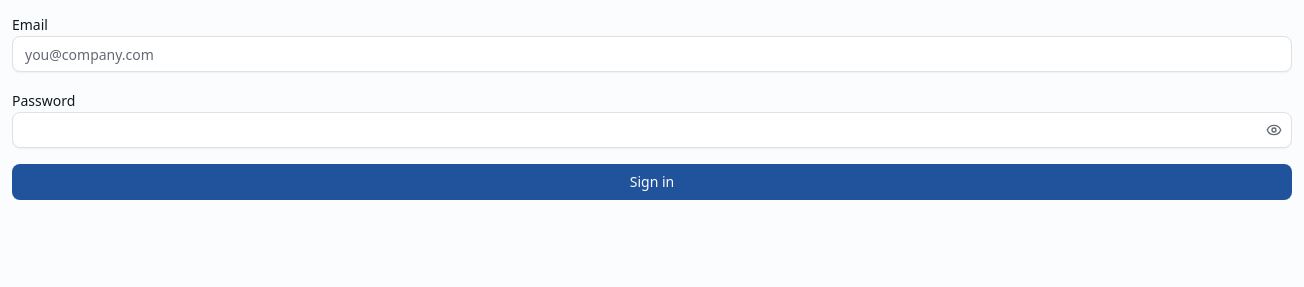
LoginPage form › shows the auth failure the backend actually returns
Type "nobody@example.com" into the field labelled "Email" at (652, 54), box left=12, top=36, right=1292, bottom=72
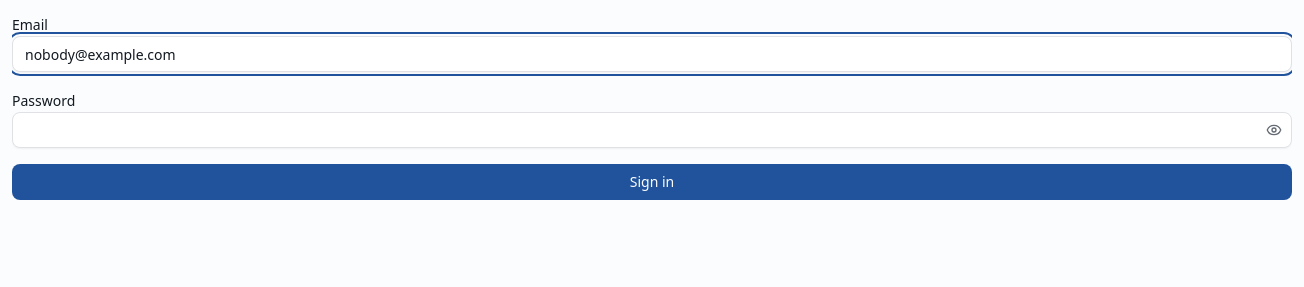
Type "wrong-password" into the password field labelled "Password" at (652, 130), box left=12, top=112, right=1292, bottom=148
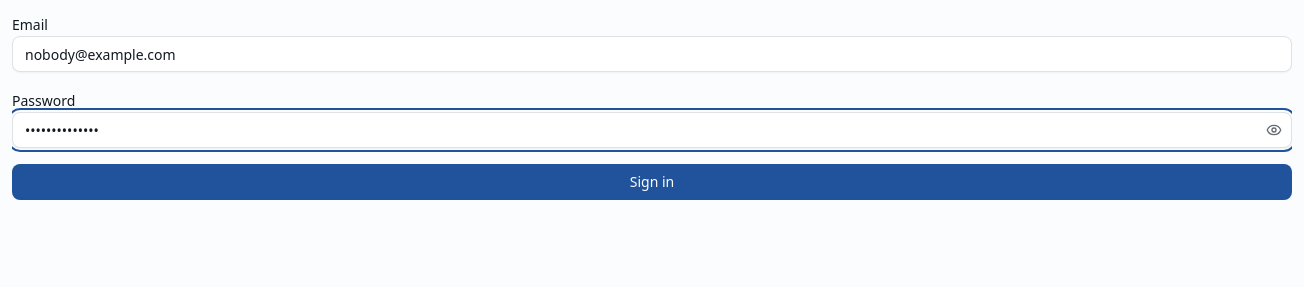
Click the button "Sign in" at (652, 182), box left=12, top=164, right=1292, bottom=200
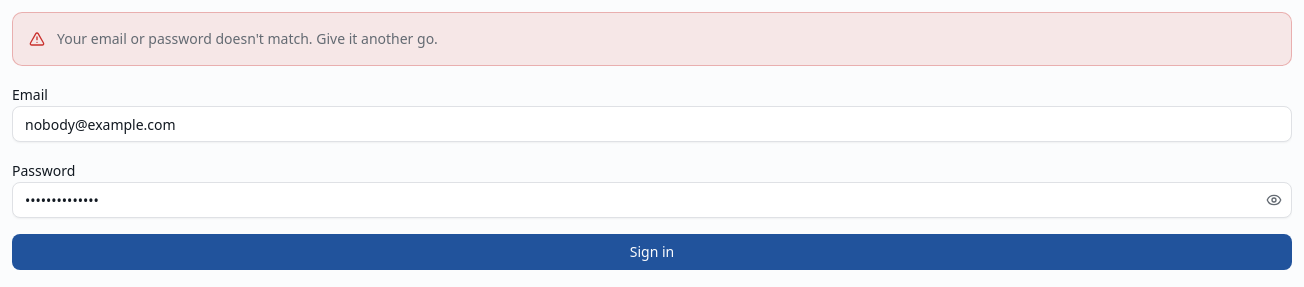
Expected: the message shows "email or password doesn't match", left=57, top=29, right=438, bottom=48
